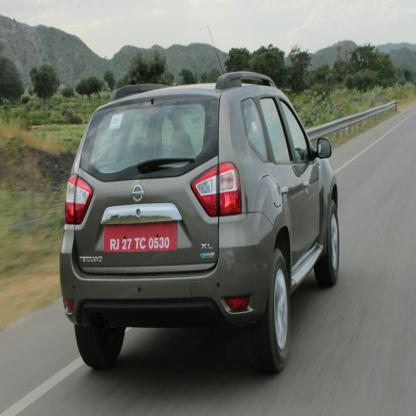license_plate: (101, 221, 176, 251)
